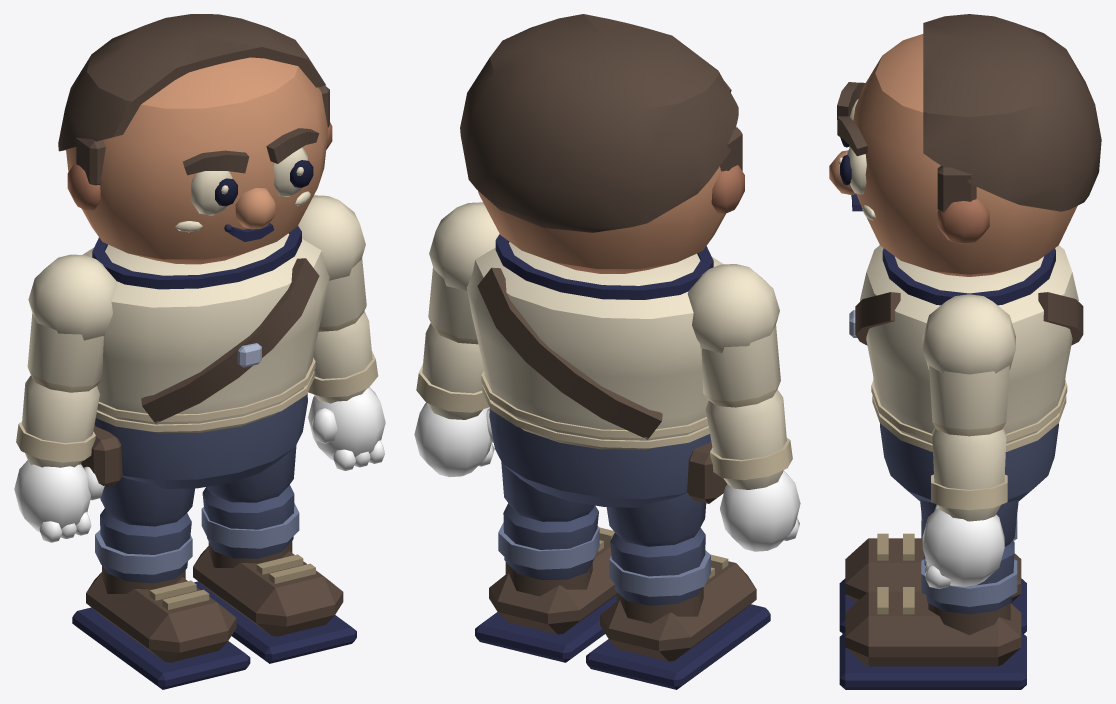
Rendered from Rookie.fbx.
3 renders of one model, left to right at view 1: azimuth 30°, elevation 25°; view 2: azimuth 150°, elevation 25°; view 3: azimuth 270°, elevation 25°, orthographic. The views are drawn at different scales.
Parts seen in each view (by area): view 1: Rookie_Head, Rookie_UpperTorso, Rookie_RightFoot, Rookie_LeftFoot, Rookie_LowerTorso, Rookie_RightUpperArm, Rookie_Face_Idle, Rookie_LeftUpperArm, Rookie_RightLowerArm, Rookie_RightLowerLeg, Rookie_LeftLowerLeg, Rookie_RightHand (+4 smaller); view 2: Rookie_Head, Rookie_UpperTorso, Rookie_RightFoot, Rookie_LowerTorso, Rookie_RightUpperArm, Rookie_LeftFoot, Rookie_RightLowerArm, Rookie_LeftUpperArm, Rookie_RightLowerLeg, Rookie_LeftLowerLeg, Rookie_LeftLowerArm, Rookie_RightHand (+3 smaller); view 3: Rookie_Head, Rookie_UpperTorso, Rookie_LeftFoot, Rookie_LeftUpperArm, Rookie_LeftLowerArm, Rookie_LeftHand, Rookie_RightFoot, Rookie_LowerTorso, Rookie_LeftLowerLeg, Rookie_Face_Idle, Rookie_LeftUpperLeg.
Part boxes in pixels (left/top/right/bottom): Rookie_Head: left=58, top=14, right=332, bottom=264; Rookie_UpperTorso: left=83, top=226, right=329, bottom=433; Rookie_RightFoot: left=72, top=565, right=250, bottom=689; Rookie_LeftFoot: left=193, top=541, right=356, bottom=663; Rookie_LowerTorso: left=81, top=393, right=307, bottom=488; Rookie_RightUpperArm: left=27, top=254, right=117, bottom=392; Rookie_Face_Idle: left=175, top=128, right=319, bottom=241; Rookie_LeftUpperArm: left=298, top=195, right=366, bottom=331; Rookie_RightLowerArm: left=16, top=375, right=99, bottom=467; Rookie_RightLowerLeg: left=95, top=508, right=192, bottom=583; Rookie_LeftLowerLeg: left=201, top=485, right=299, bottom=558; Rookie_RightHand: left=14, top=460, right=104, bottom=542; Rookie_Head: left=460, top=14, right=744, bottom=273; Rookie_UpperTorso: left=467, top=234, right=723, bottom=449; Rookie_RightFoot: left=586, top=554, right=770, bottom=689; Rookie_LowerTorso: left=489, top=408, right=727, bottom=507; Rookie_RightUpperArm: left=687, top=264, right=780, bottom=407; Rookie_LeftFoot: left=475, top=527, right=616, bottom=662; Rookie_RightLowerArm: left=705, top=389, right=792, bottom=489; Rookie_LeftUpperArm: left=428, top=202, right=499, bottom=344; Rookie_RightLowerLeg: left=609, top=528, right=710, bottom=605; Rookie_LeftLowerLeg: left=498, top=503, right=599, bottom=579; Rookie_LeftLowerArm: left=416, top=323, right=489, bottom=419; Rookie_RightHand: left=720, top=471, right=800, bottom=551; Rookie_Head: left=829, top=14, right=1101, bottom=276; Rookie_UpperTorso: left=849, top=245, right=1083, bottom=451; Rookie_LeftFoot: left=839, top=587, right=1026, bottom=689; Rookie_LeftUpperArm: left=922, top=294, right=1015, bottom=436; Rookie_LeftLowerArm: left=931, top=427, right=1007, bottom=521; Rookie_LeftHand: left=922, top=504, right=1004, bottom=588; Rookie_RightFoot: left=839, top=533, right=1026, bottom=633; Rookie_LowerTorso: left=880, top=423, right=1058, bottom=502; Rookie_LeftLowerLeg: left=921, top=540, right=1017, bottom=614; Rookie_Face_Idle: left=837, top=82, right=875, bottom=220; Rookie_LeftUpperLeg: left=920, top=499, right=1018, bottom=546.
Size of the model in its own units: 2.96 by 4.62 by 1.89.
Materials: 1 (1 with a texture image).
